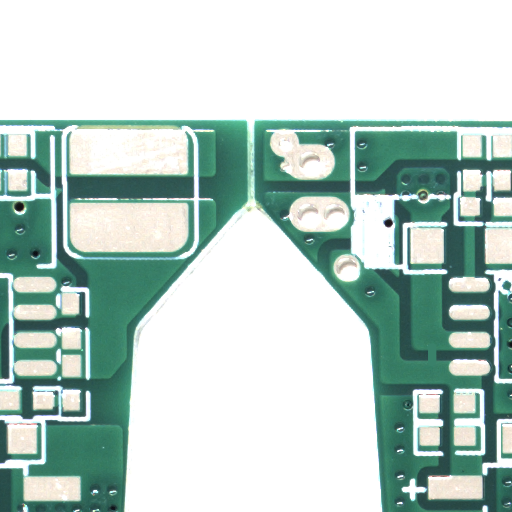Short: (430, 354, 445, 372)
